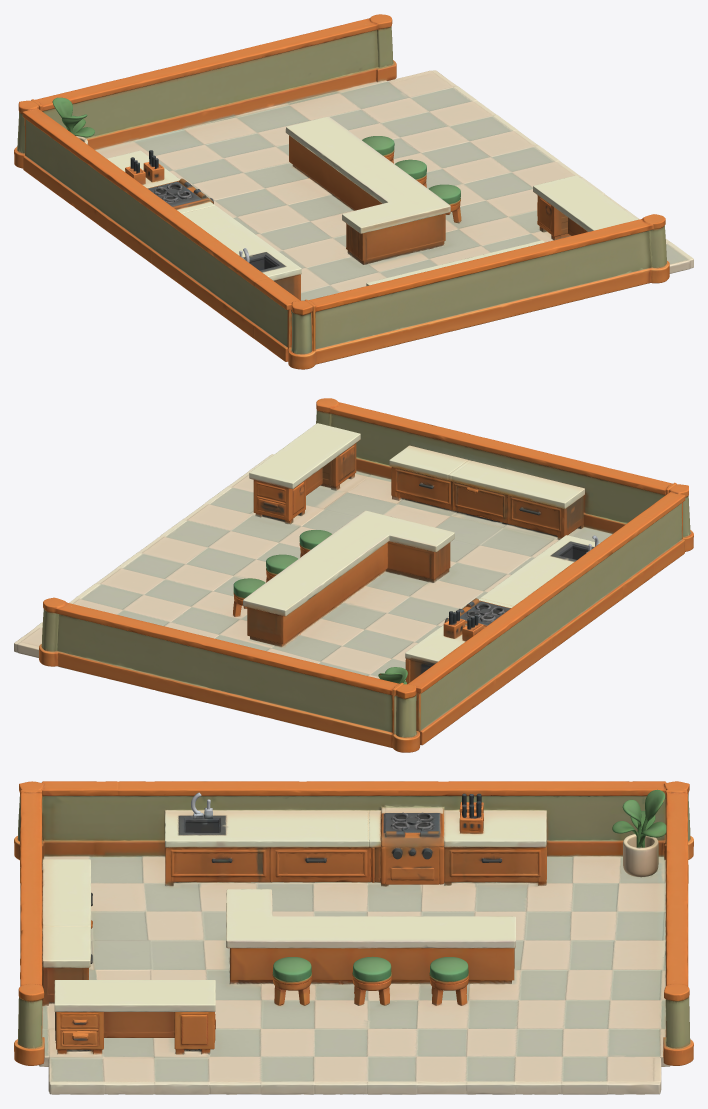
The model's file is sushi-room-v10.glb.
The picture shows the model from 3 angles, top to bottom: view 1: azimuth 30°, elevation 25°; view 2: azimuth 150°, elevation 25°; view 3: azimuth 270°, elevation 25°; orthographic projection. The views are drawn at different scales.
Parts seen in each view (by area): view 1: tripo_node_baa46c4d-e804-4763-b705-cc7467c62be8; view 2: tripo_node_baa46c4d-e804-4763-b705-cc7467c62be8; view 3: tripo_node_baa46c4d-e804-4763-b705-cc7467c62be8.
Boxes of the visible parts, bbox=[...] form: tripo_node_baa46c4d-e804-4763-b705-cc7467c62be8: bbox=[14, 14, 693, 369]; tripo_node_baa46c4d-e804-4763-b705-cc7467c62be8: bbox=[14, 398, 693, 752]; tripo_node_baa46c4d-e804-4763-b705-cc7467c62be8: bbox=[14, 781, 693, 1094].
Bounding box in the file's own units: 6 × 1 × 7.25.
1 material, 1 textured.
